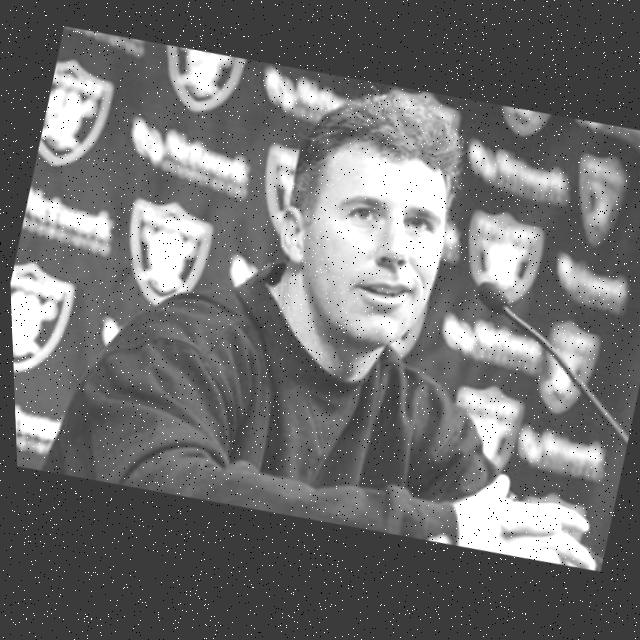face: (265, 125, 473, 362)
